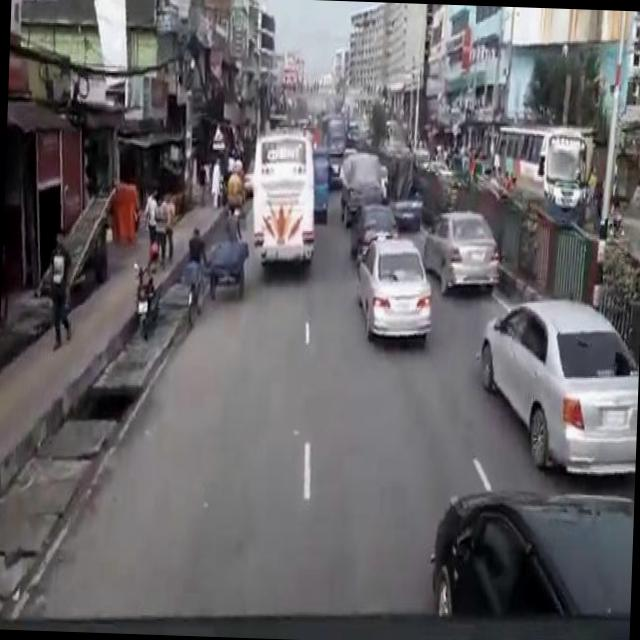bus: (490, 122, 588, 225), (247, 125, 317, 261), (320, 112, 345, 145)
car: (476, 292, 640, 473), (354, 234, 433, 335), (420, 206, 499, 289), (348, 198, 397, 256)
motorcycle: (128, 252, 160, 340), (223, 169, 243, 211)
truck: (429, 482, 633, 616), (336, 148, 380, 222), (381, 150, 423, 224), (310, 144, 332, 220)
